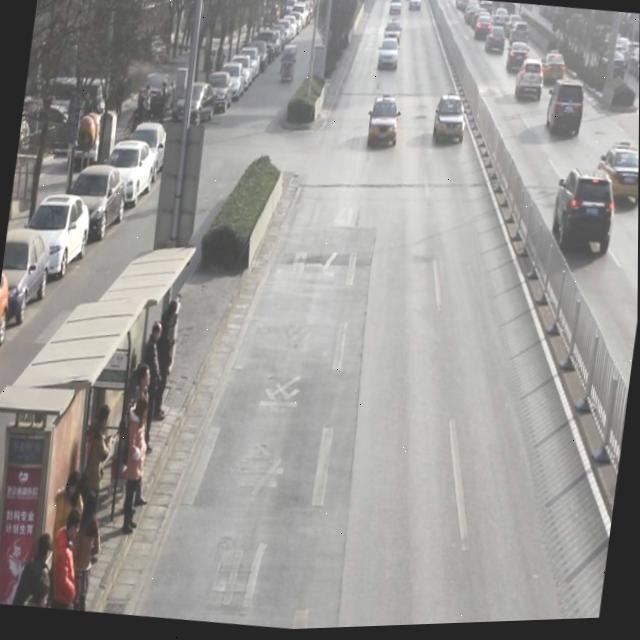car: (549, 168, 620, 264), (593, 141, 639, 214), (543, 79, 587, 145), (430, 96, 468, 153), (366, 95, 402, 155), (514, 60, 546, 109), (539, 50, 567, 93), (505, 43, 531, 78), (377, 40, 400, 76), (484, 28, 507, 62), (611, 54, 628, 85), (474, 18, 494, 44), (383, 21, 403, 45), (511, 27, 530, 44), (388, 0, 403, 21), (406, 0, 421, 17)
